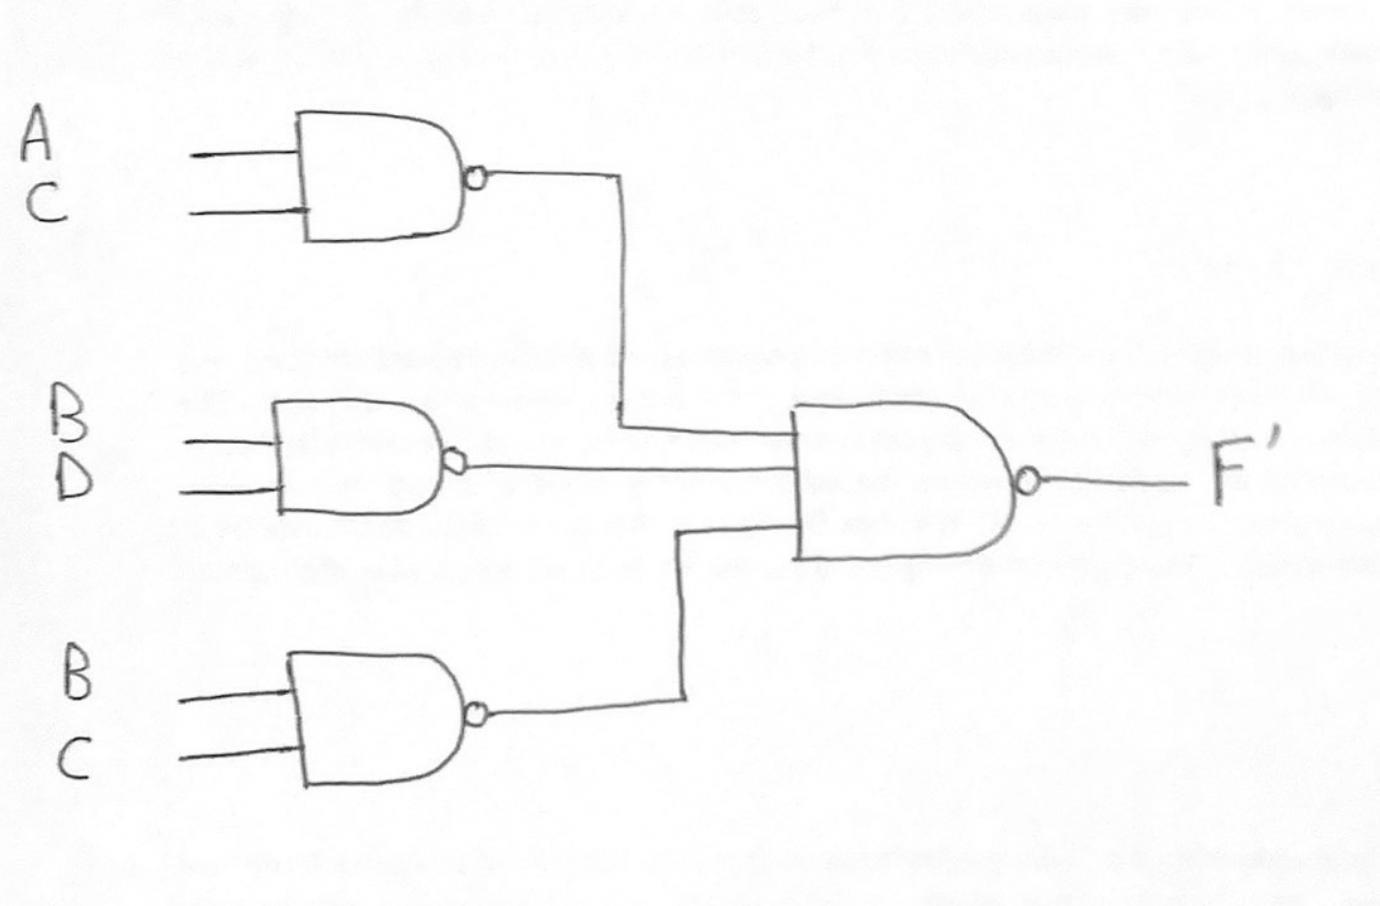NAND: (755, 365, 1057, 601), (270, 92, 513, 275), (257, 627, 511, 799), (257, 375, 505, 549)
